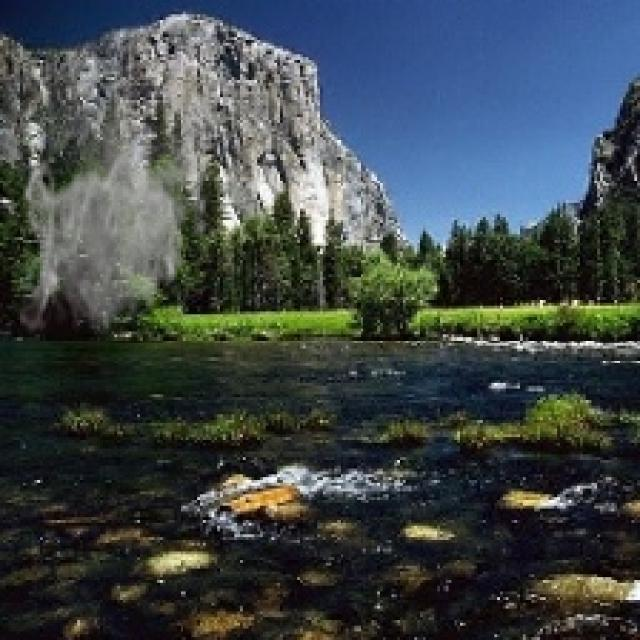smoke: (20, 60, 220, 340)
